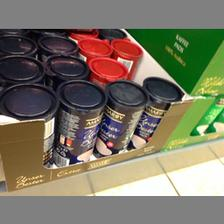Kaffee: (55, 79, 108, 164), (97, 80, 147, 156), (130, 77, 178, 147)
